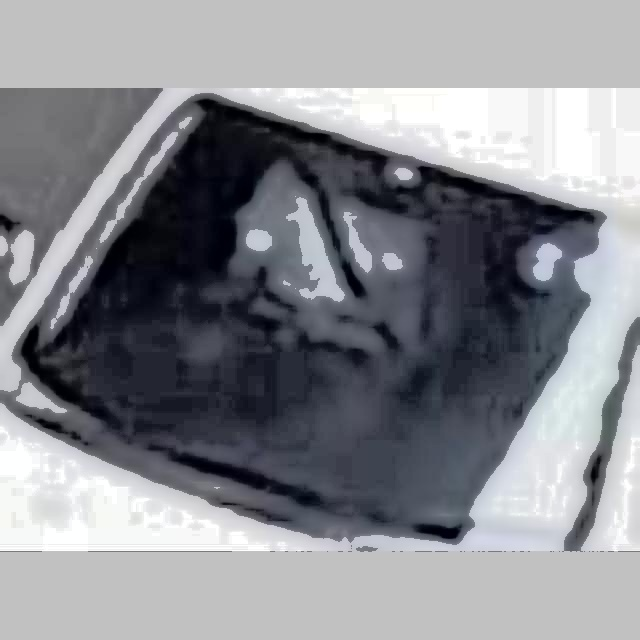pakai: (226, 132, 441, 391)
